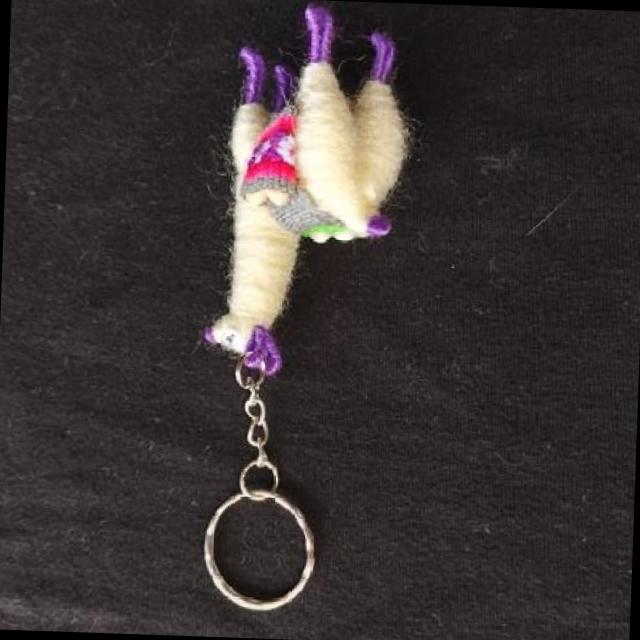Llavero: (197, 0, 415, 382)
